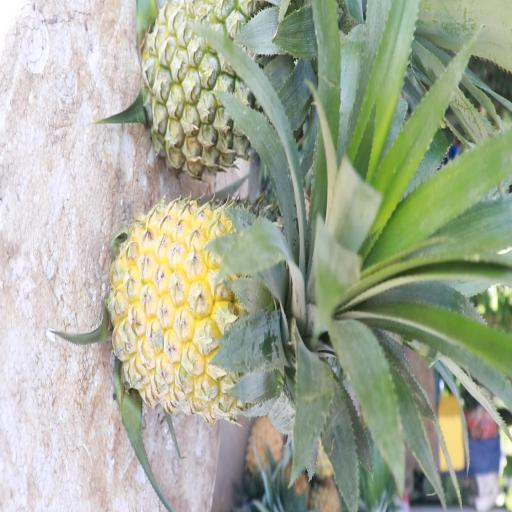------------------------------: (142, 0, 350, 171)
Pineapple - v8 v1: (119, 197, 349, 412)
